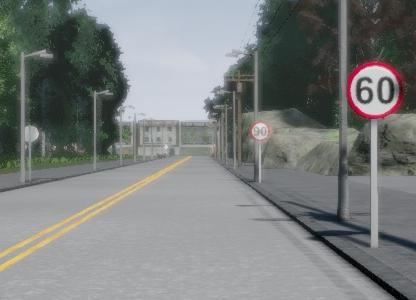Speed_60: (344, 54, 411, 121)
